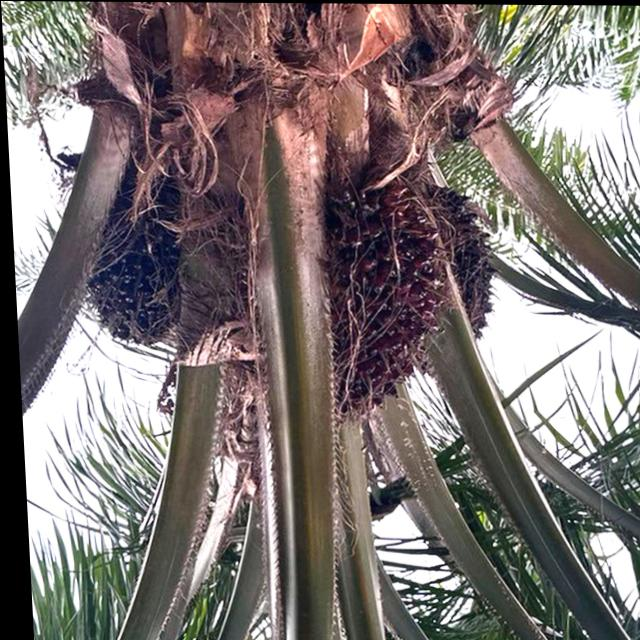ripe: (292, 174, 470, 433)
